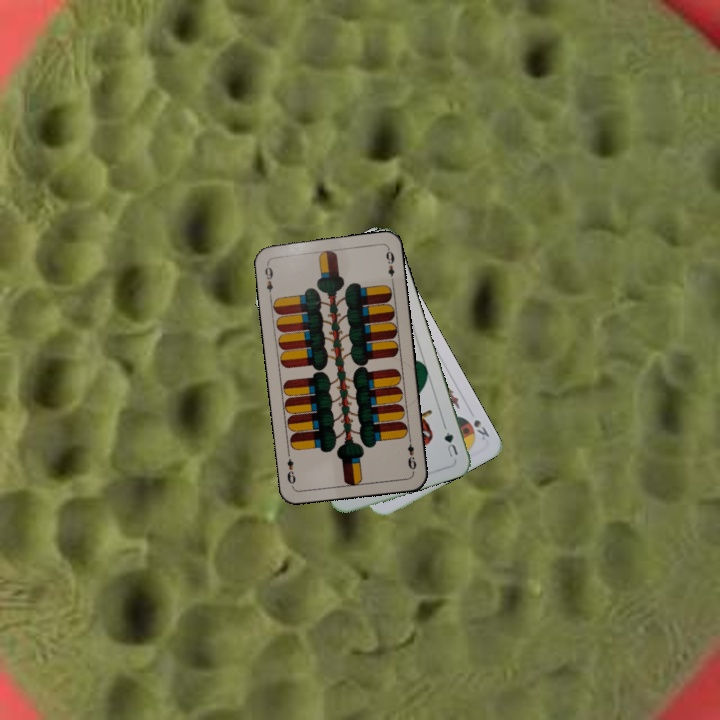E9: (260, 260, 276, 300), (403, 434, 419, 472)
GU: (440, 428, 461, 461)
SK: (469, 415, 492, 443)
